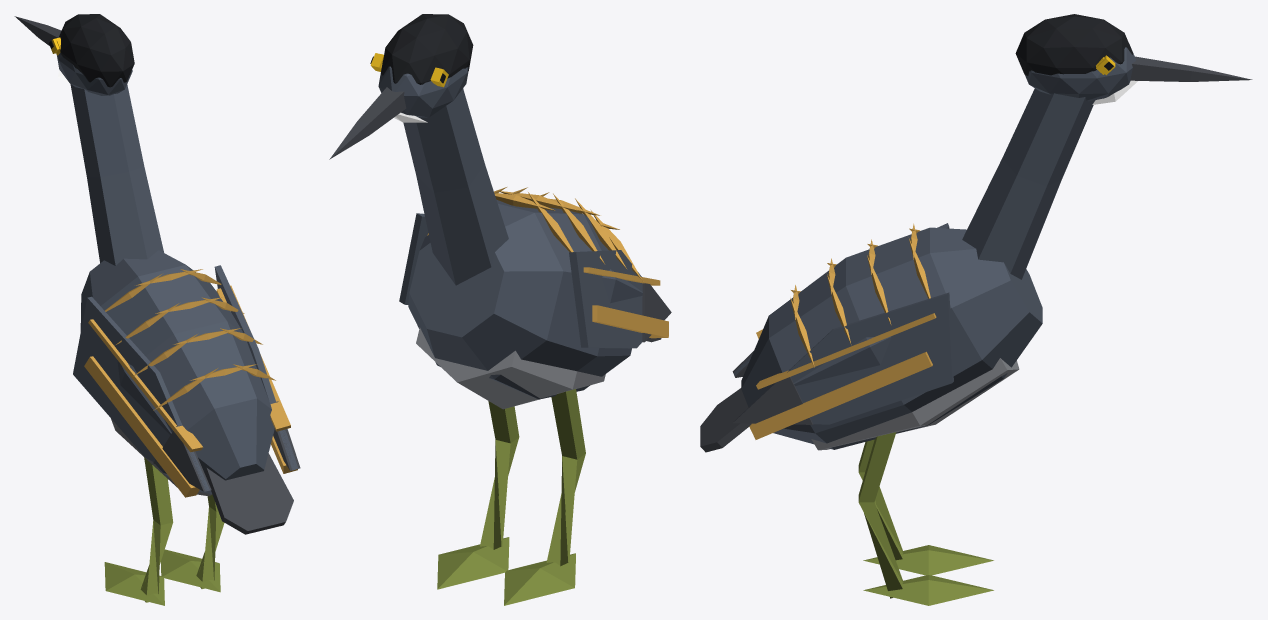
File: soco_boi_escuro.glb
3 views of the same model, side by side, from view 1: azimuth 30°, elevation 25°; view 2: azimuth 150°, elevation 25°; view 3: azimuth 270°, elevation 25° (orthographic). The views are drawn at different scales.
Visible parts, largest first — view 1: corpo; view 2: corpo; view 3: corpo.
Part boxes in pixels (box(x1,y1,x2,y2)): corpo: box(14, 14, 300, 605); corpo: box(329, 14, 671, 605); corpo: box(700, 14, 1252, 605).
Size of the model in its own units: 0.3184 by 1 by 0.8808.
